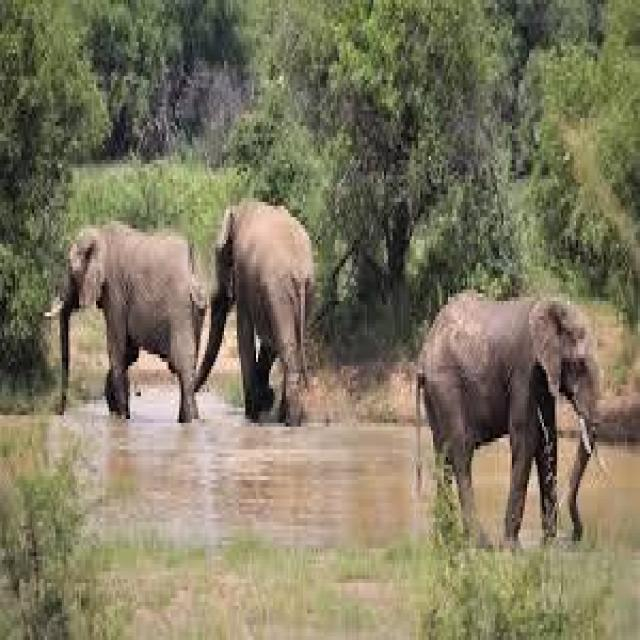Elephant: (410, 286, 600, 541), (51, 217, 205, 438)
